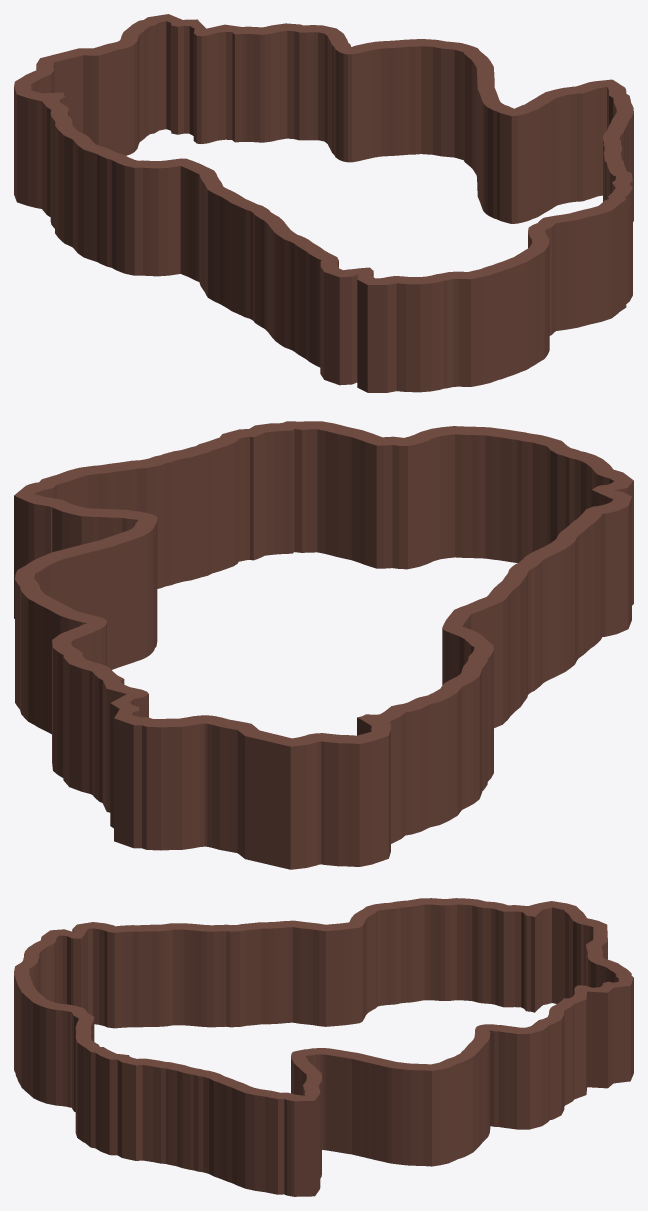
File: LAKECOLLIDER.fbx
The picture shows the model from 3 angles, top to bottom: view 1: azimuth 30°, elevation 25°; view 2: azimuth 150°, elevation 25°; view 3: azimuth 270°, elevation 25°; orthographic projection. The views are drawn at different scales.
Visible parts, largest first — view 1: fish lake collider; view 2: fish lake collider; view 3: fish lake collider.
Boxes of the visible parts, <box> form: fish lake collider: <box>14,14,633,392</box>; fish lake collider: <box>14,421,633,869</box>; fish lake collider: <box>14,898,633,1196</box>.
Bounding box in the file's own units: 56675 × 12442 × 73107.
